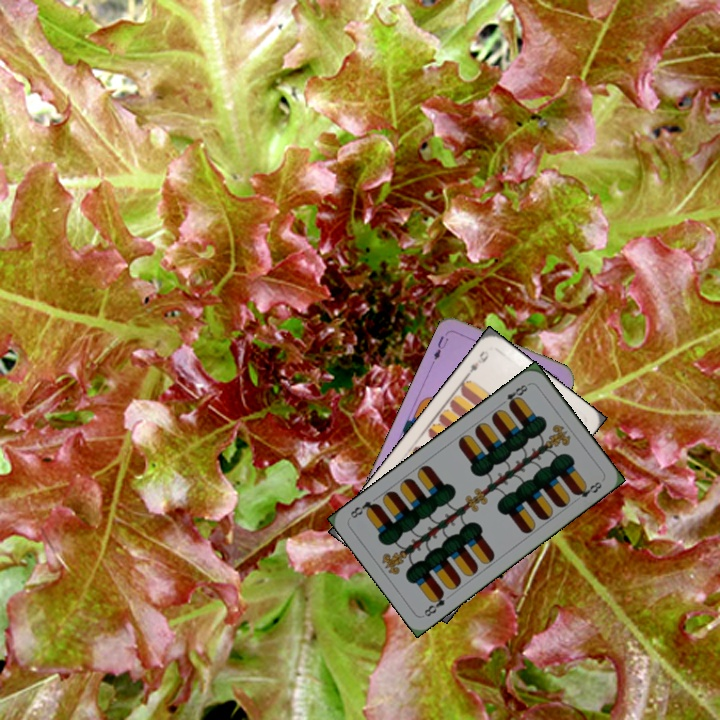E8: (497, 380, 532, 410), (420, 588, 448, 619)
E9: (462, 347, 492, 380)
EU: (429, 332, 451, 363)
